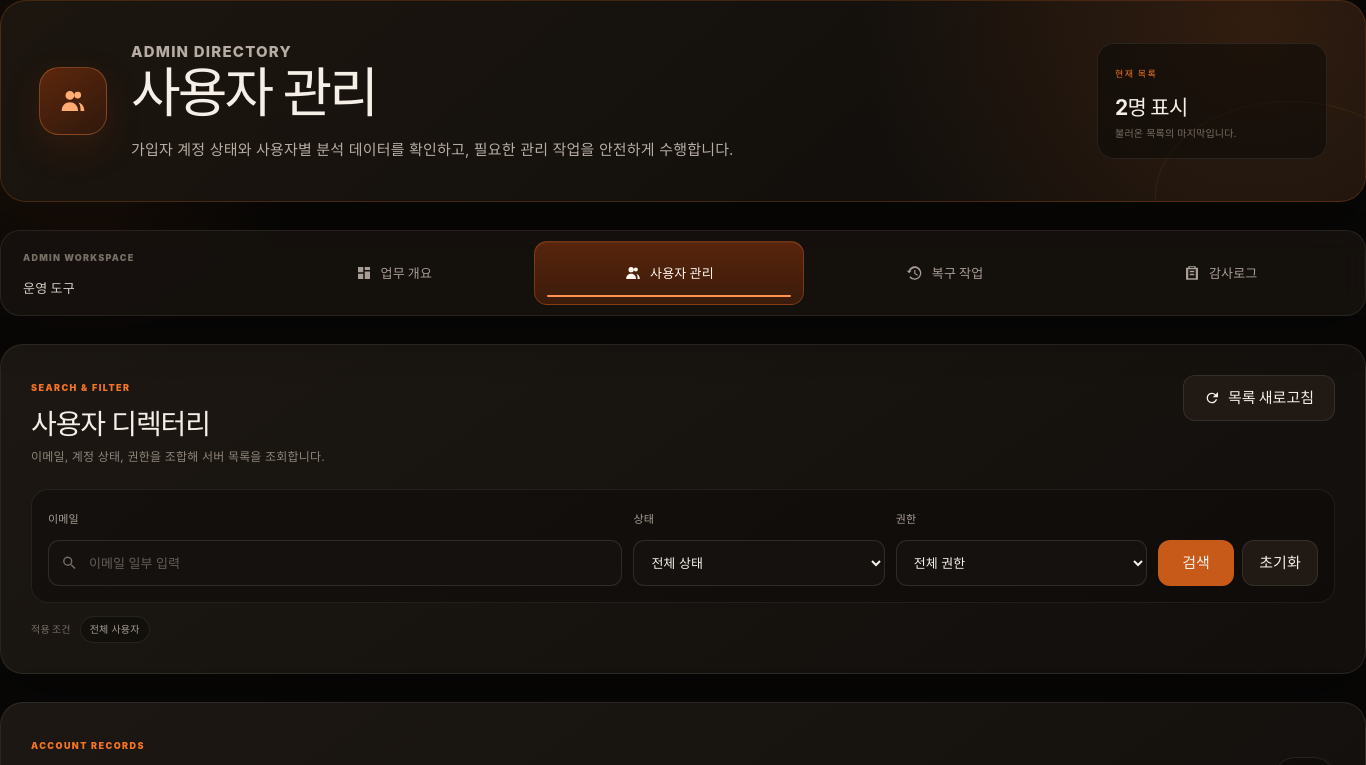
AdminUsersPage › sends email, status, and role filters to the server
The width and height of the screenshot is (1366, 765).
Type " member@example.com " into the search field labelled "이메일" at {"x": 335, "y": 563}, box top-left (48, 540), bottom-right (622, 586)
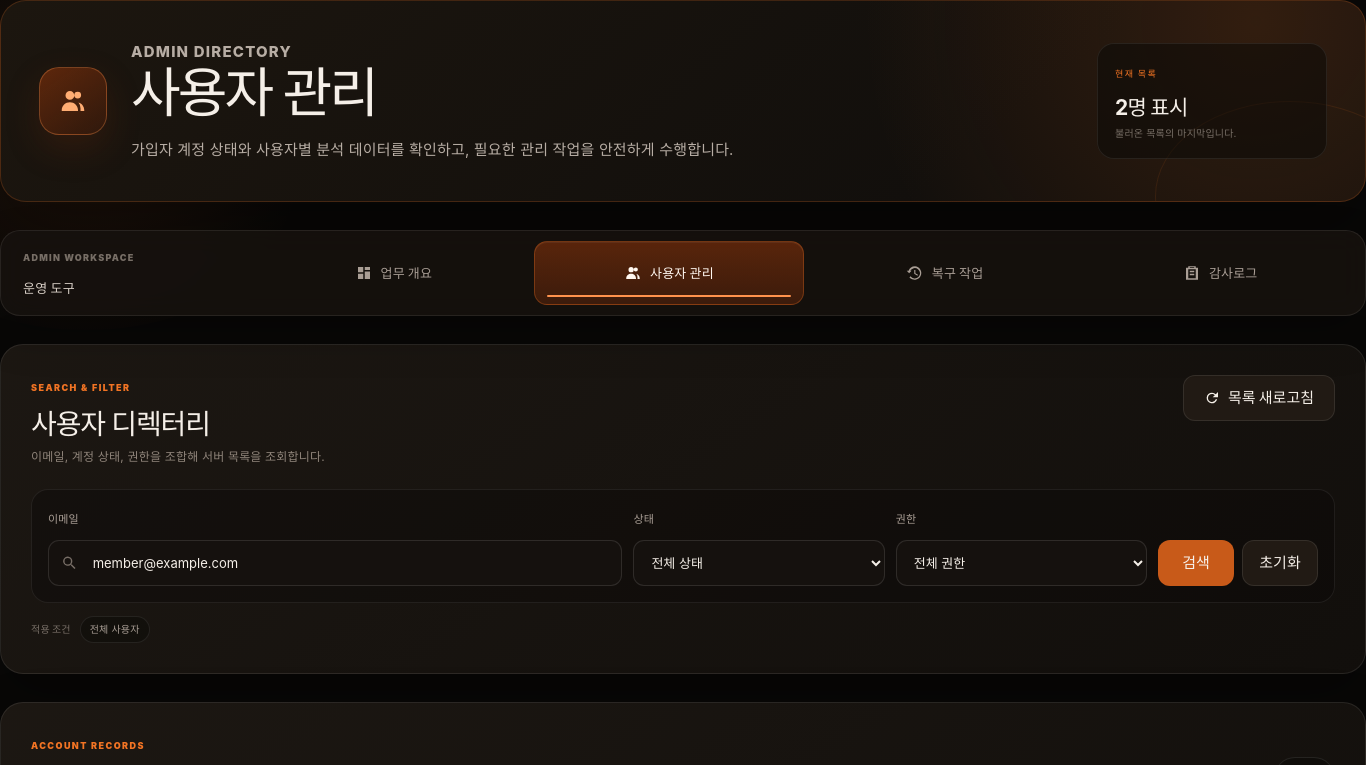
Select "활성" in the dropdown labelled "상태" at {"x": 759, "y": 563}, box top-left (633, 540), bottom-right (885, 586)
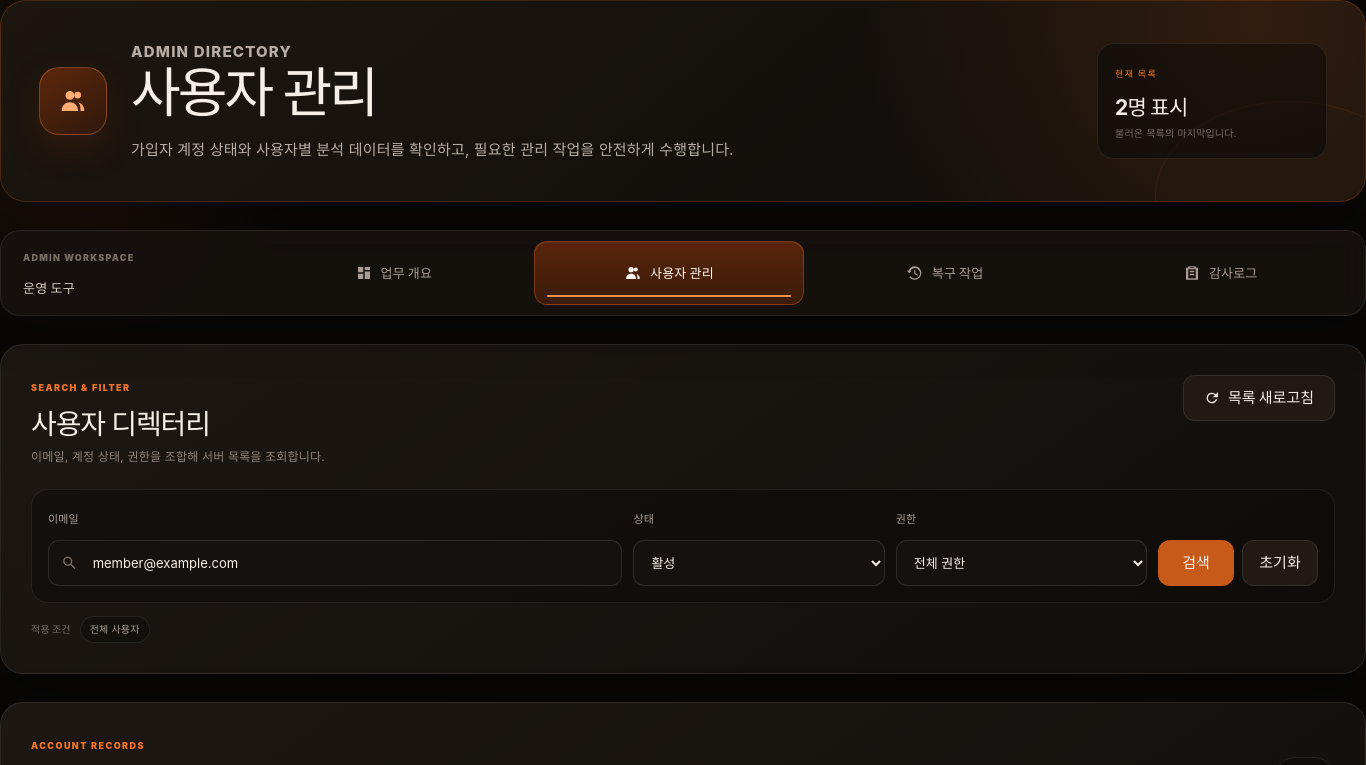
Select "일반 사용자" in the dropdown labelled "권한" at {"x": 1021, "y": 563}, box top-left (896, 540), bottom-right (1147, 586)
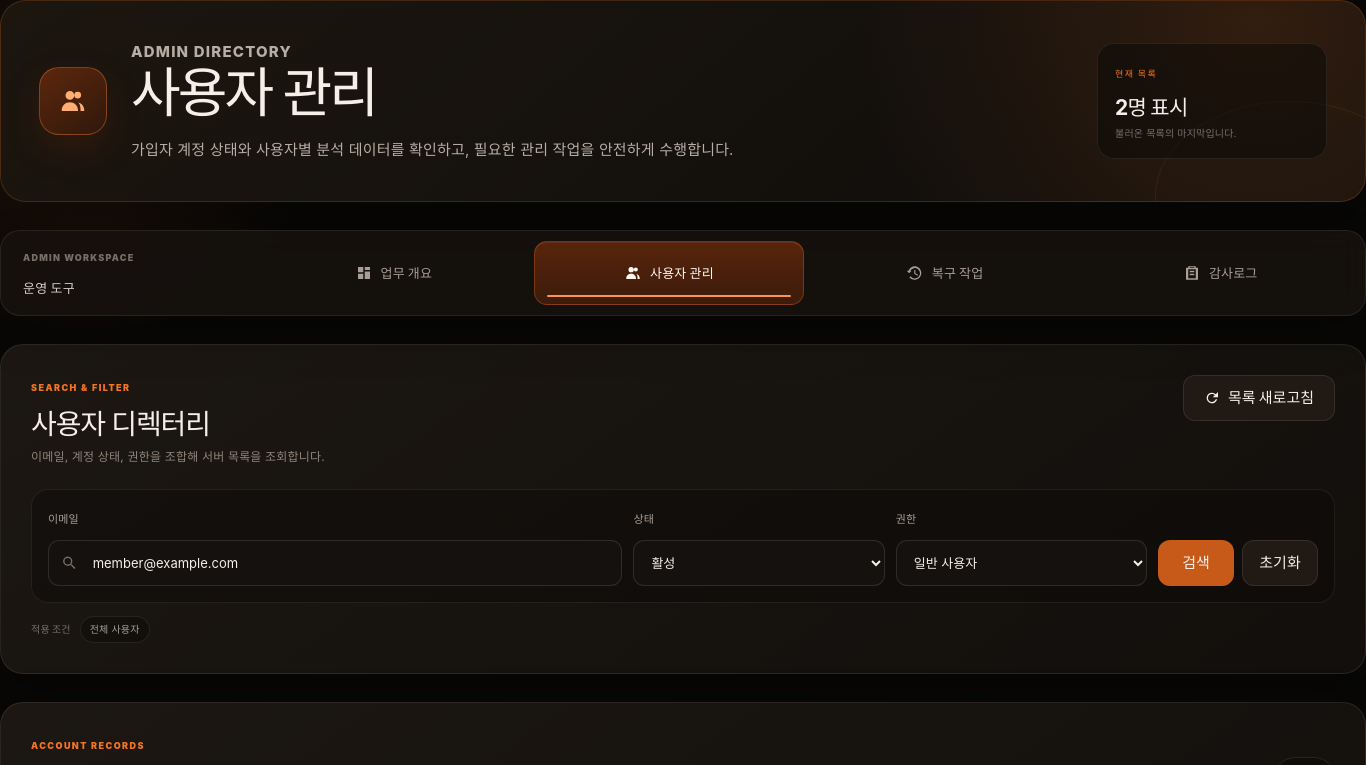
Click the button "검색" at {"x": 1196, "y": 563}, box top-left (1158, 540), bottom-right (1234, 586)
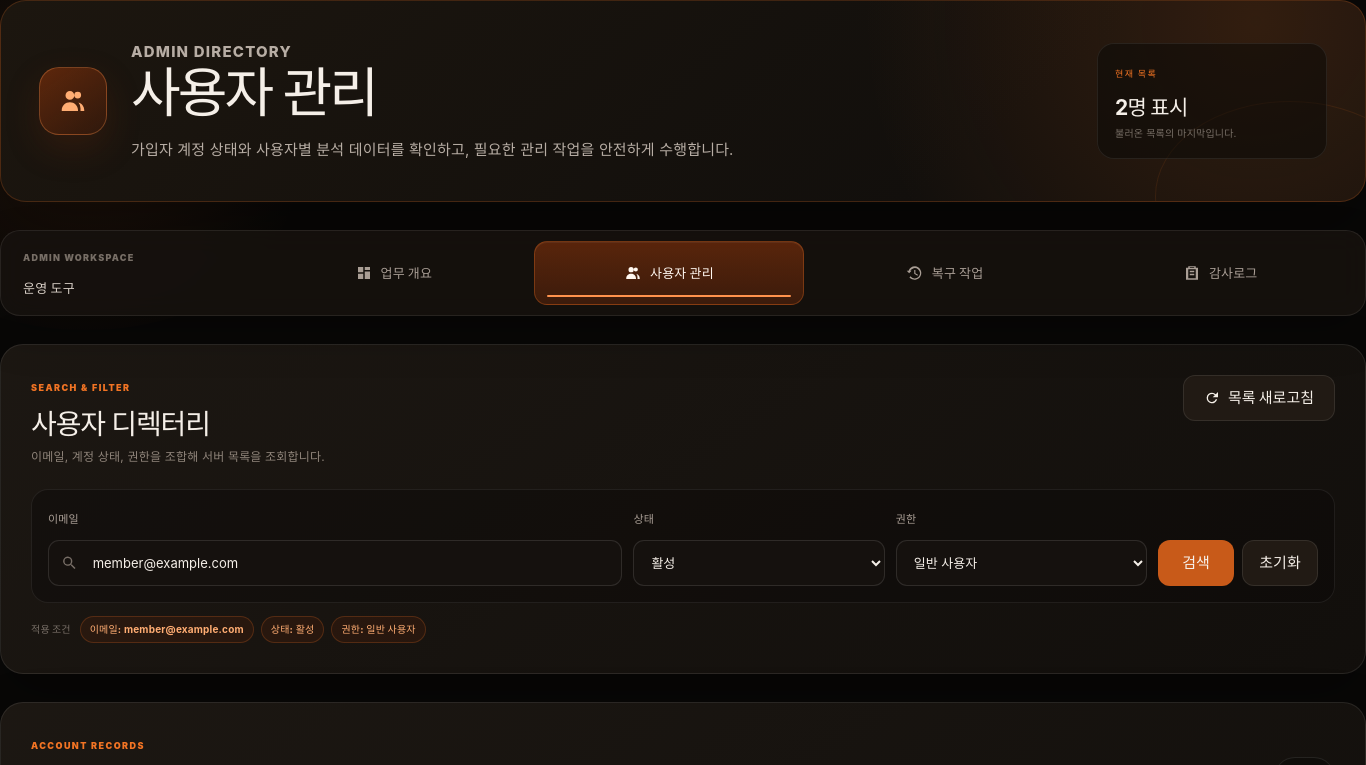
Check: the text "이메일: member@example.com" is shown, box top-left (80, 616), bottom-right (254, 643)
Check: the text "상태: 활성" is shown, box top-left (261, 616), bottom-right (324, 643)
Check: the text "권한: 일반 사용자" is shown, box top-left (331, 616), bottom-right (426, 643)
